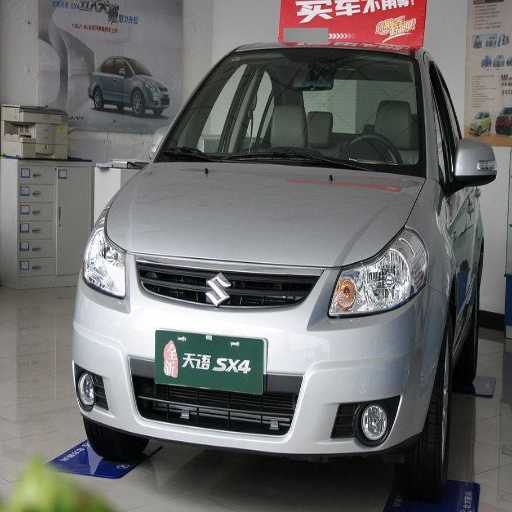front_bumper: (72, 251, 445, 453)
front_glass: (154, 53, 448, 177)
front_right_light: (82, 223, 127, 298)
hood: (108, 163, 427, 266)
left_mirror: (455, 142, 496, 185)
